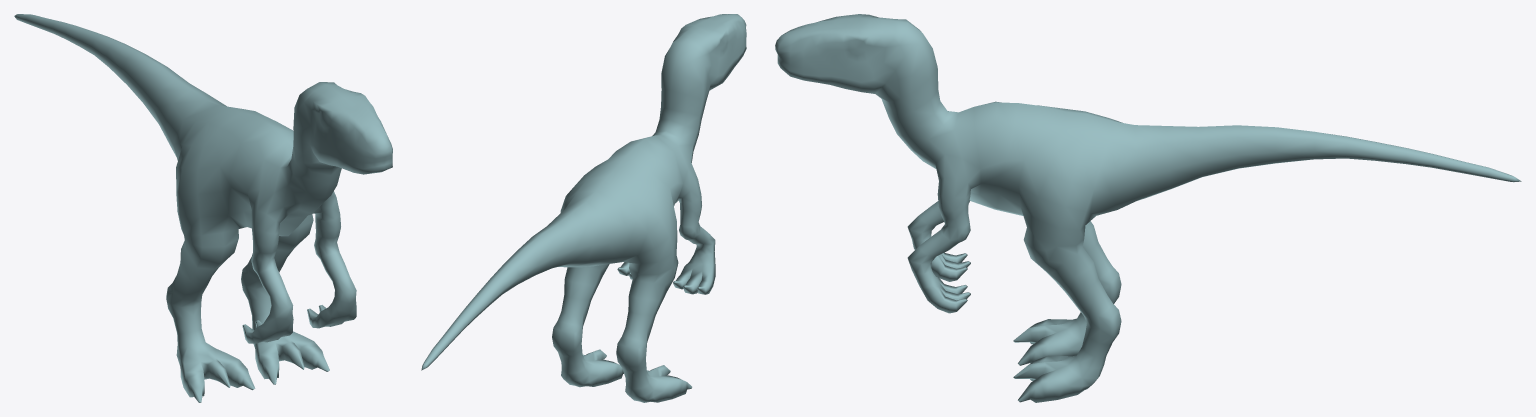
The model's file is dino.fbx.
3 views of the same model, side by side, from view 1: azimuth 30°, elevation 25°; view 2: azimuth 150°, elevation 25°; view 3: azimuth 270°, elevation 25° (orthographic). The views are drawn at different scales.
Visible parts, largest first — view 1: Raptor:raptor; view 2: Raptor:raptor; view 3: Raptor:raptor.
Boxes of the visible parts, x1,y1,x2,y2 form: Raptor:raptor: (14, 14, 392, 402); Raptor:raptor: (421, 14, 746, 402); Raptor:raptor: (775, 14, 1521, 402).
Size of the model in its own units: 80.89 by 204 by 393.
